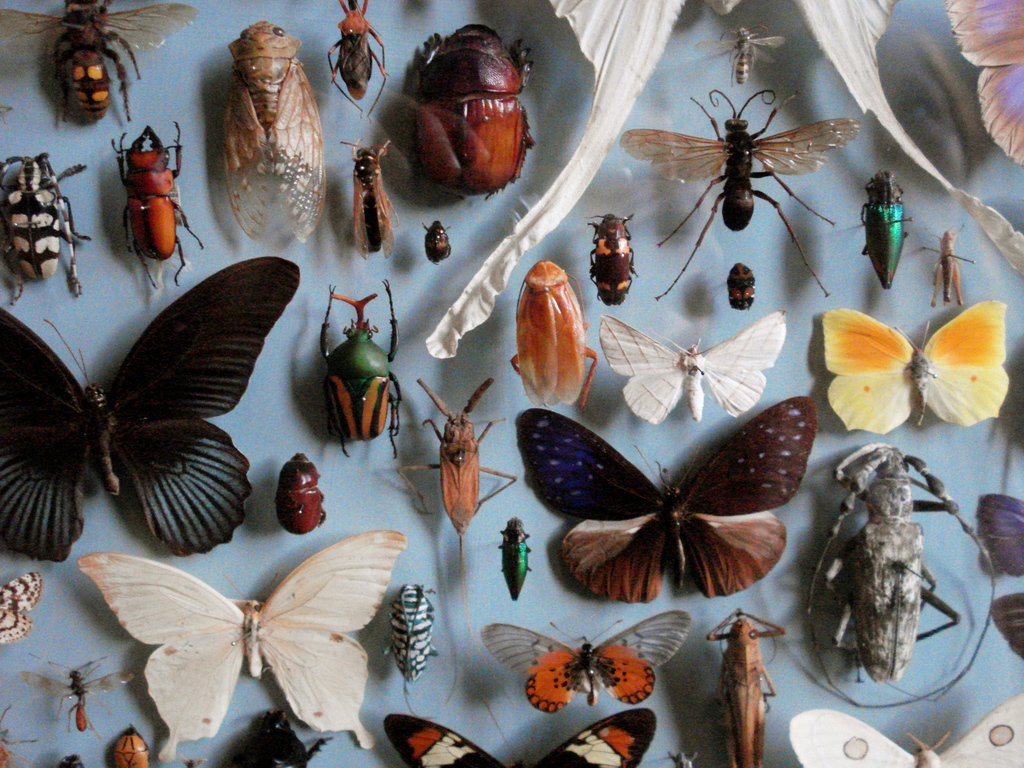Butterfly: (1, 245, 270, 558), (68, 529, 420, 754), (506, 406, 835, 602), (807, 289, 1024, 440), (471, 607, 712, 717), (589, 312, 800, 426)
